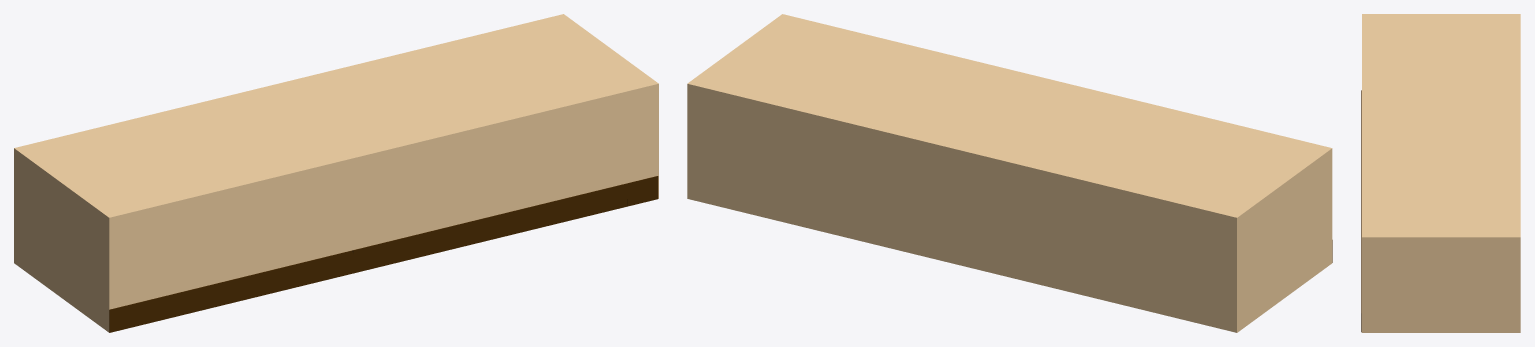
File: sky.obj
3 views of the same model, side by side, from view 1: azimuth 30°, elevation 25°; view 2: azimuth 150°, elevation 25°; view 3: azimuth 270°, elevation 25° (orthographic). The views are drawn at different scales.
Parts seen in each view (by area): view 1: 立方体.001_立方体.010; view 2: 立方体.001_立方体.010; view 3: 立方体.001_立方体.010.
Part boxes in pixels (x1,y1,x2,y2): 立方体.001_立方体.010: (14, 14, 658, 332); 立方体.001_立方体.010: (687, 14, 1332, 332); 立方体.001_立方体.010: (1361, 14, 1520, 332).
Bounding box in the file's own units: 200 × 40 × 60.24.
1 material, 1 textured.
